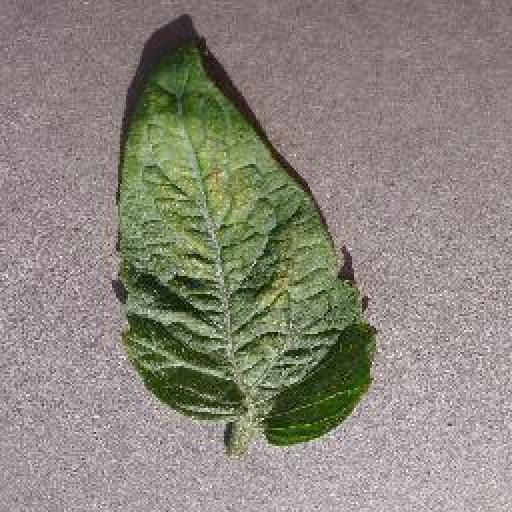disease_tomato: (114, 36, 374, 448)
